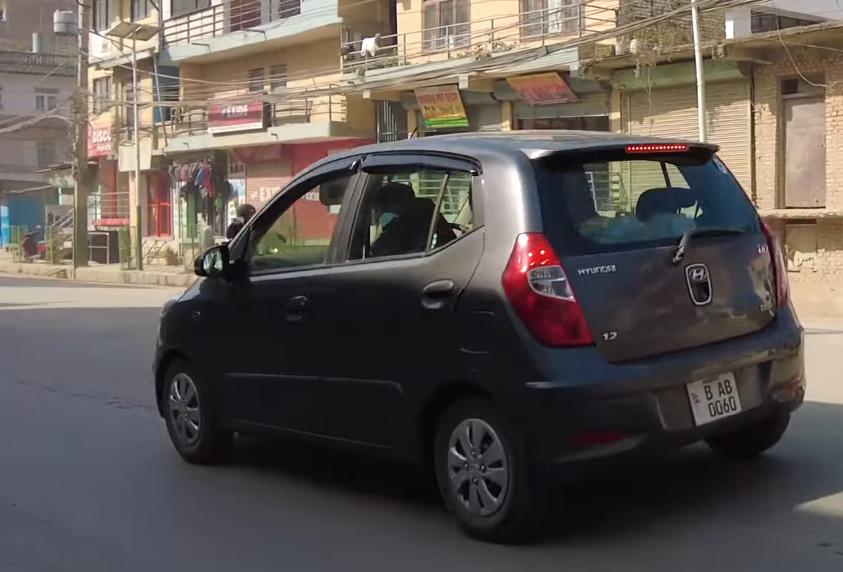car: (147, 124, 813, 546)
